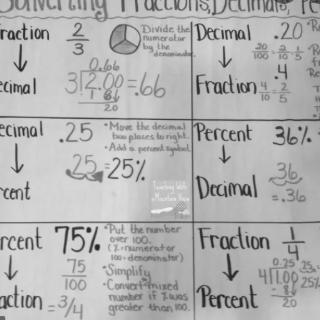.: (133, 90, 140, 98), (58, 136, 64, 145), (272, 74, 279, 80), (272, 34, 279, 39)
0: (102, 71, 115, 90), (291, 22, 304, 40), (87, 56, 99, 70)
1: (286, 225, 298, 240)
2: (64, 120, 79, 144), (71, 151, 85, 175), (83, 71, 97, 90), (280, 19, 292, 40), (72, 21, 86, 38)
3: (64, 70, 80, 95), (271, 124, 286, 148), (72, 41, 86, 56)
4: (286, 242, 302, 262), (276, 61, 291, 80)
5: (70, 224, 86, 253), (79, 120, 94, 144), (83, 153, 97, 175)
6: (139, 69, 154, 96), (153, 73, 167, 99), (286, 125, 299, 146)
7: (52, 223, 70, 254)
